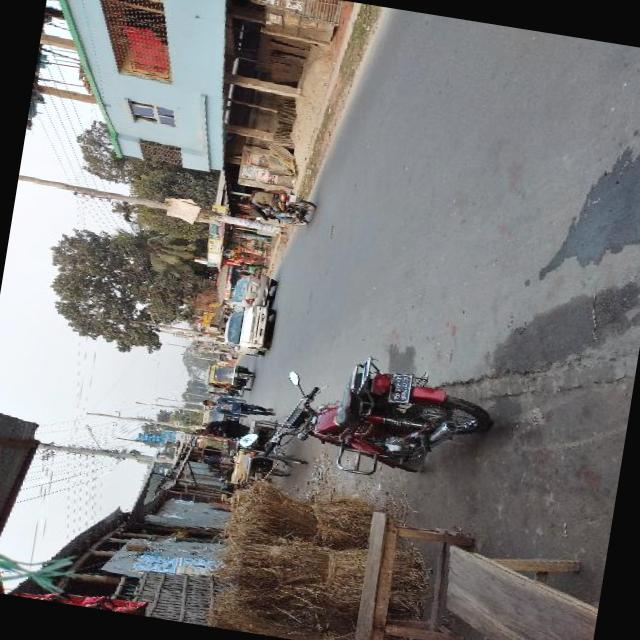car: (218, 300, 278, 360), (232, 268, 278, 304)
motorcycle: (260, 340, 500, 496), (240, 184, 318, 228), (202, 359, 256, 398), (200, 406, 240, 429), (214, 303, 228, 330), (221, 353, 236, 361)
